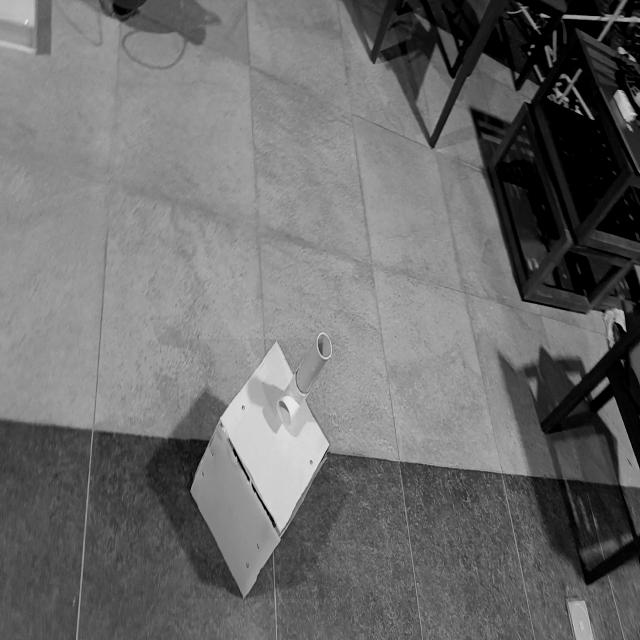Cube: (190, 340, 330, 600)
